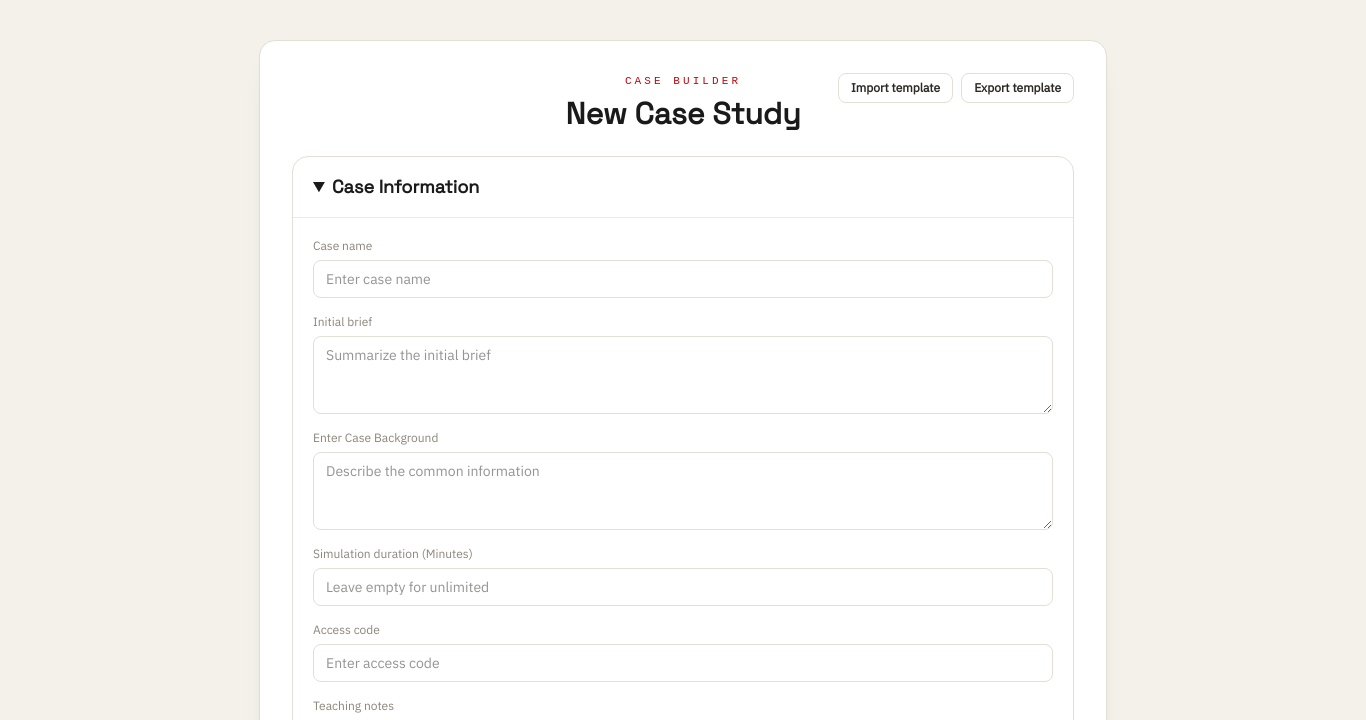
Test: CaseForm › unsaved-changes navigation guard › shows the error and stays when the save fails
In the field labelled "Case name": point(683, 278) [313,260,1053,298], type "Sterling"
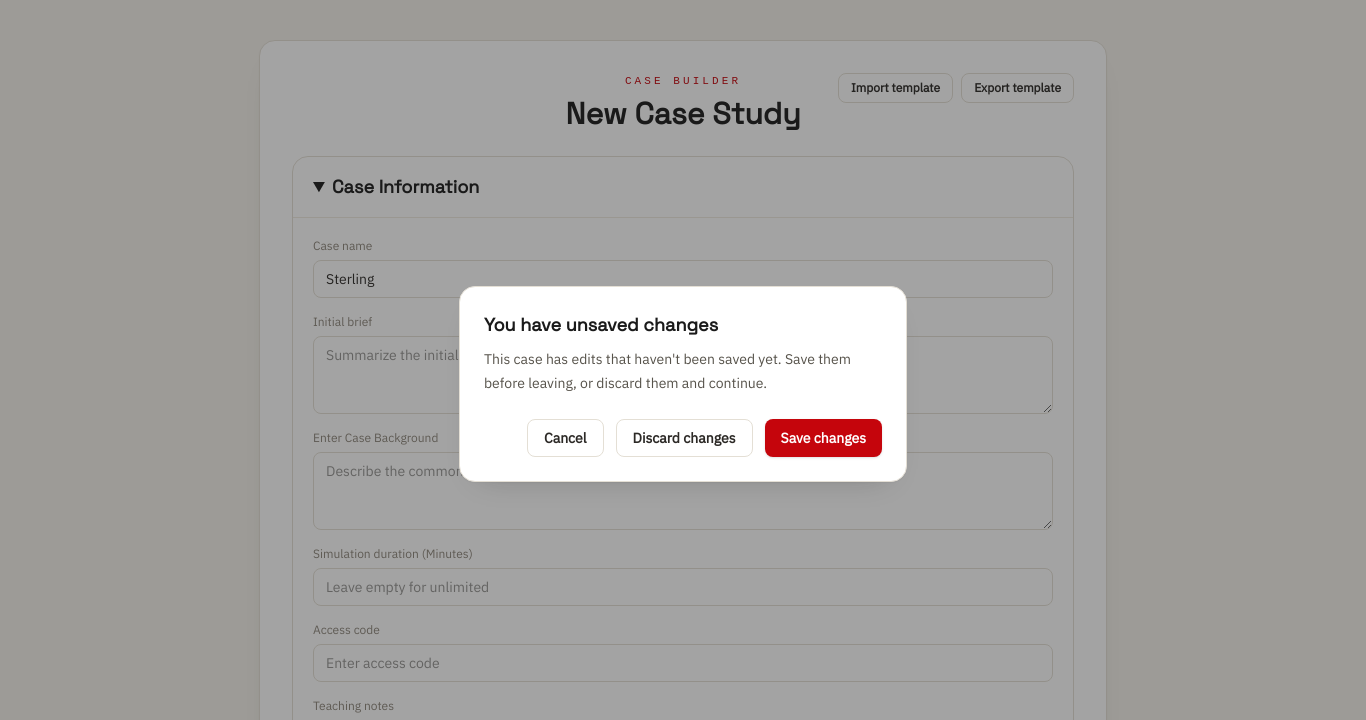
Click the button "Save changes": point(823, 438) [764,419,882,457]
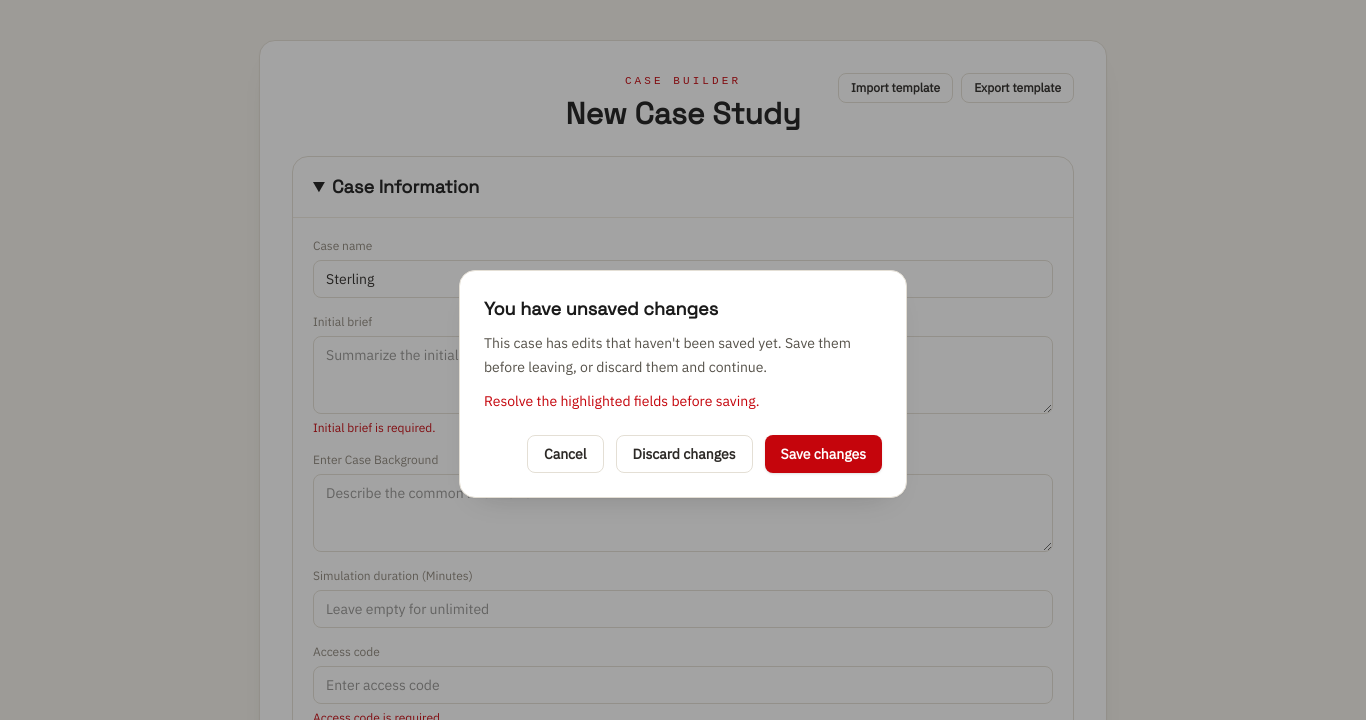
Now the message "Resolve the highlighted fields before saving." is shown, box [484,392,760,410]
